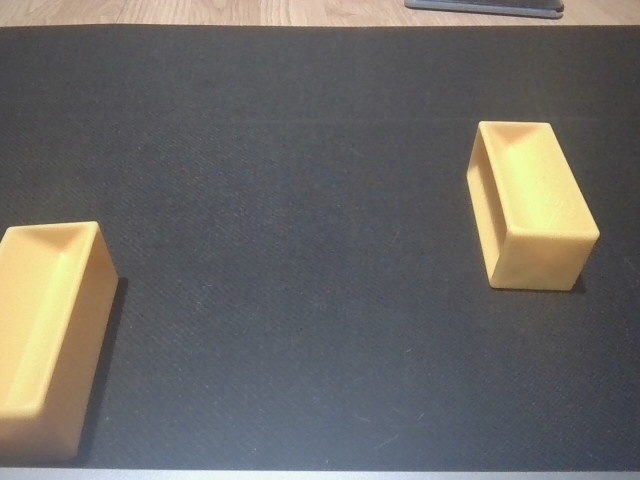YellowSample: (1, 214, 125, 463), (459, 117, 603, 300)
